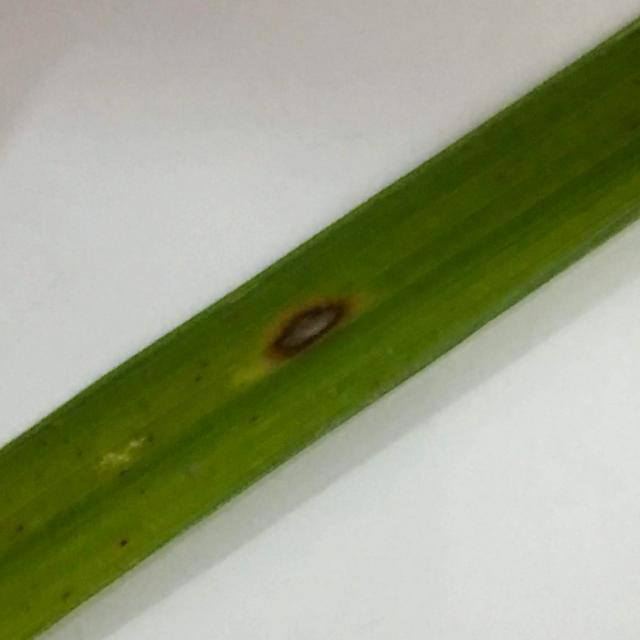Blast: (266, 314, 354, 352)
